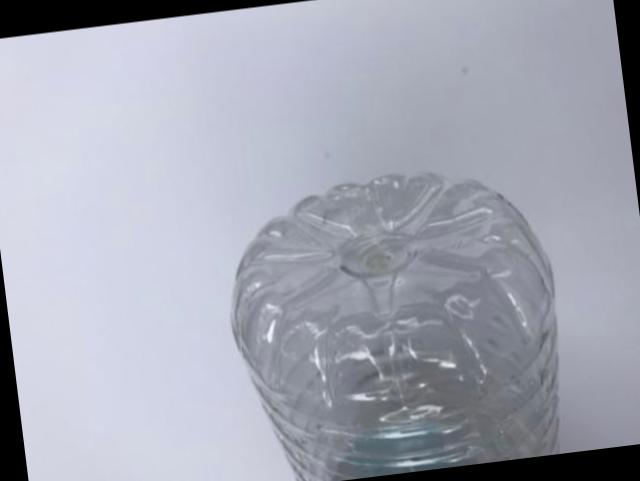plastic: (229, 171, 554, 481)
